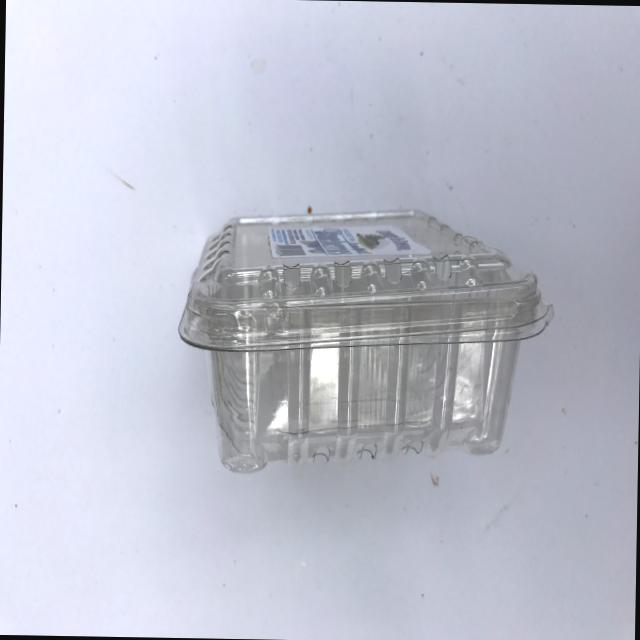Plastic: (158, 191, 558, 508)
